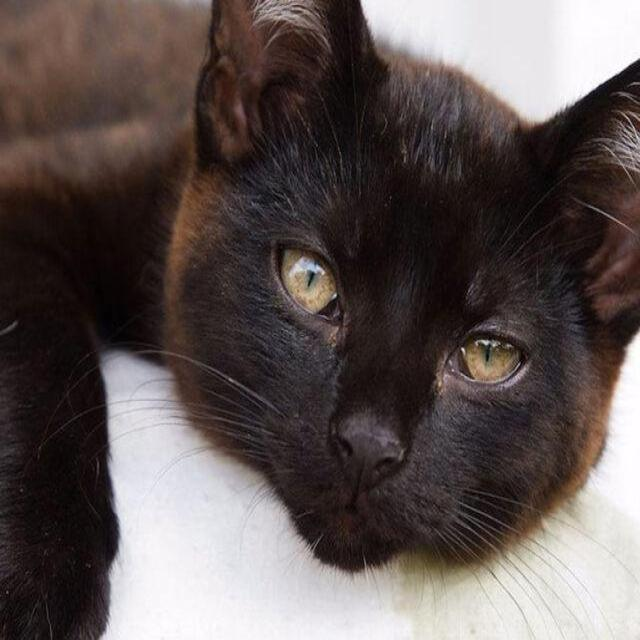Cat: (158, 0, 640, 581)
